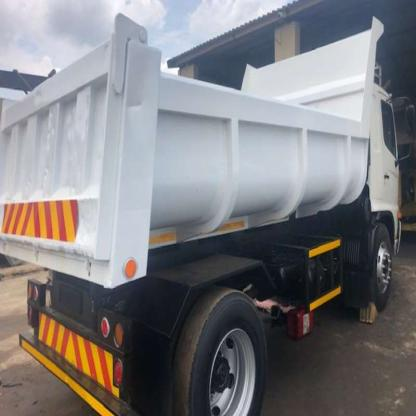dump_truck: (9, 10, 408, 415)
